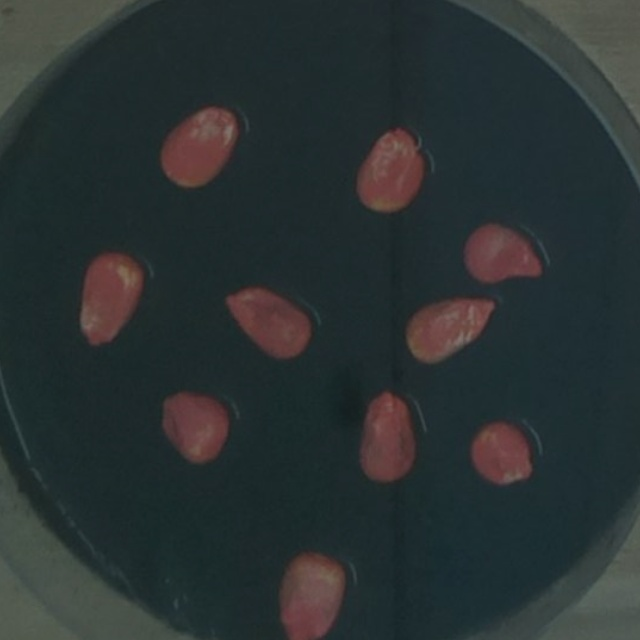Zea mays: (151, 99, 248, 198), (395, 287, 505, 374), (346, 117, 435, 222), (68, 246, 150, 358), (217, 277, 317, 367), (350, 381, 426, 492), (268, 545, 354, 639), (151, 384, 236, 473), (455, 216, 552, 293), (463, 414, 542, 495)
